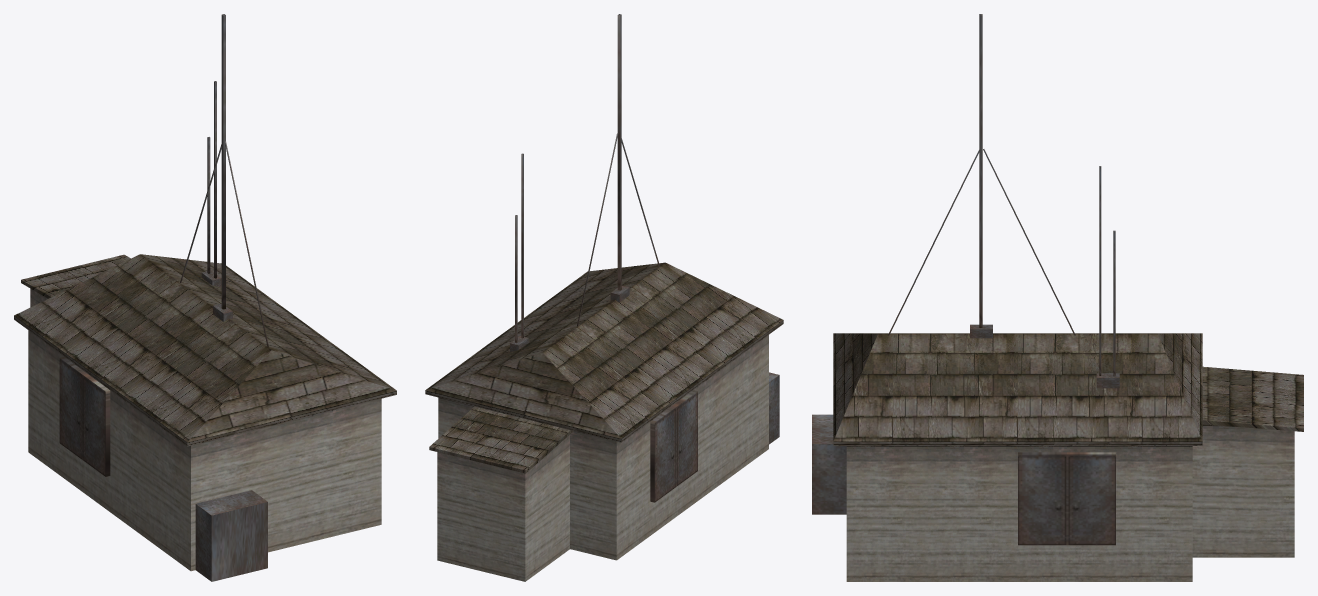
The model's file is WCMCNTR1.glb.
3 renders of one model, left to right at view 1: azimuth 30°, elevation 25°; view 2: azimuth 150°, elevation 25°; view 3: azimuth 270°, elevation 25°, orthographic. The views are drawn at different scales.
Parts seen in each view (by area): view 1: _WCMCNTR1; view 2: _WCMCNTR1; view 3: _WCMCNTR1.
Part boxes in pixels (left/top/right/bottom): _WCMCNTR1: left=14, top=14, right=396, bottom=581; _WCMCNTR1: left=425, top=14, right=783, bottom=581; _WCMCNTR1: left=812, top=14, right=1303, bottom=581.
Size of the model in its own units: 7.37 by 16.36 by 14.07.
Materials: 1 (1 with a texture image).
